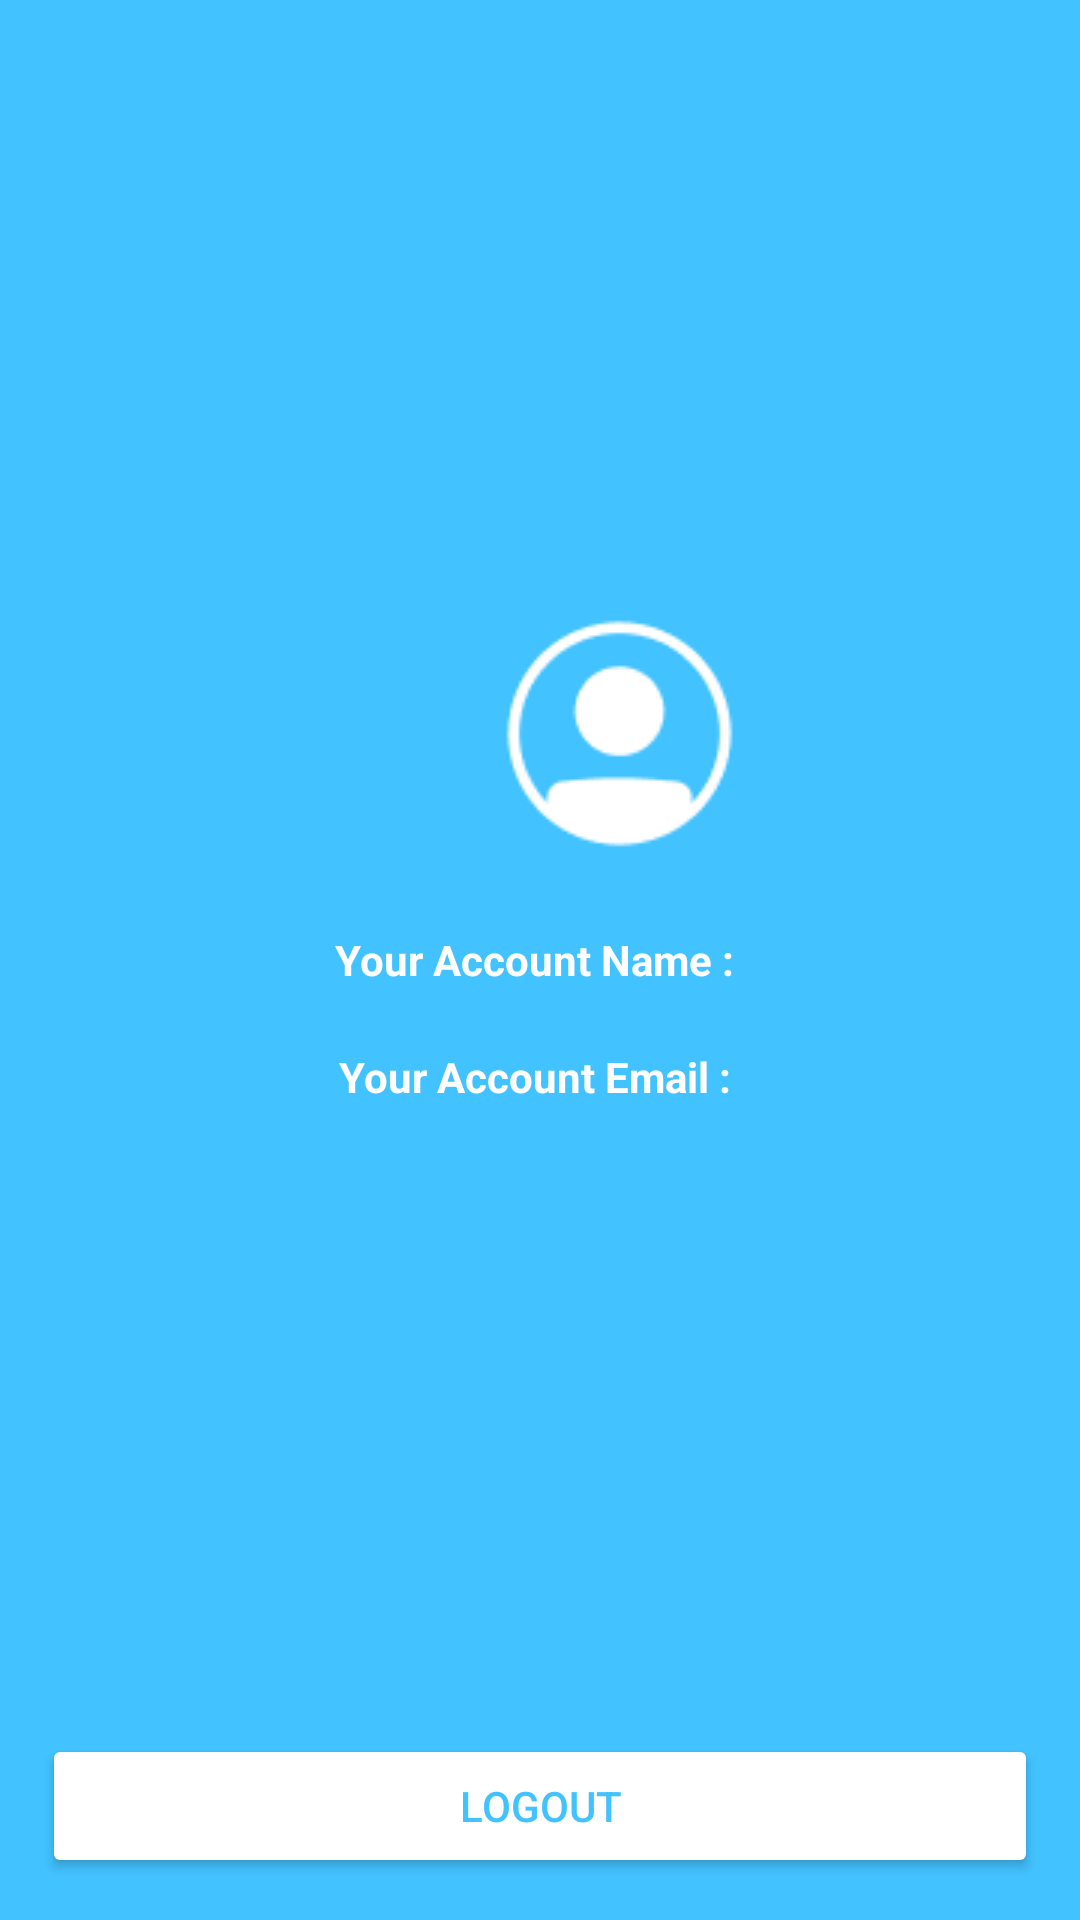

Icons on this 1080x1920 Android screen, each with its box as (x1, y1, x2, y2):
profile: (506, 620, 733, 847)
